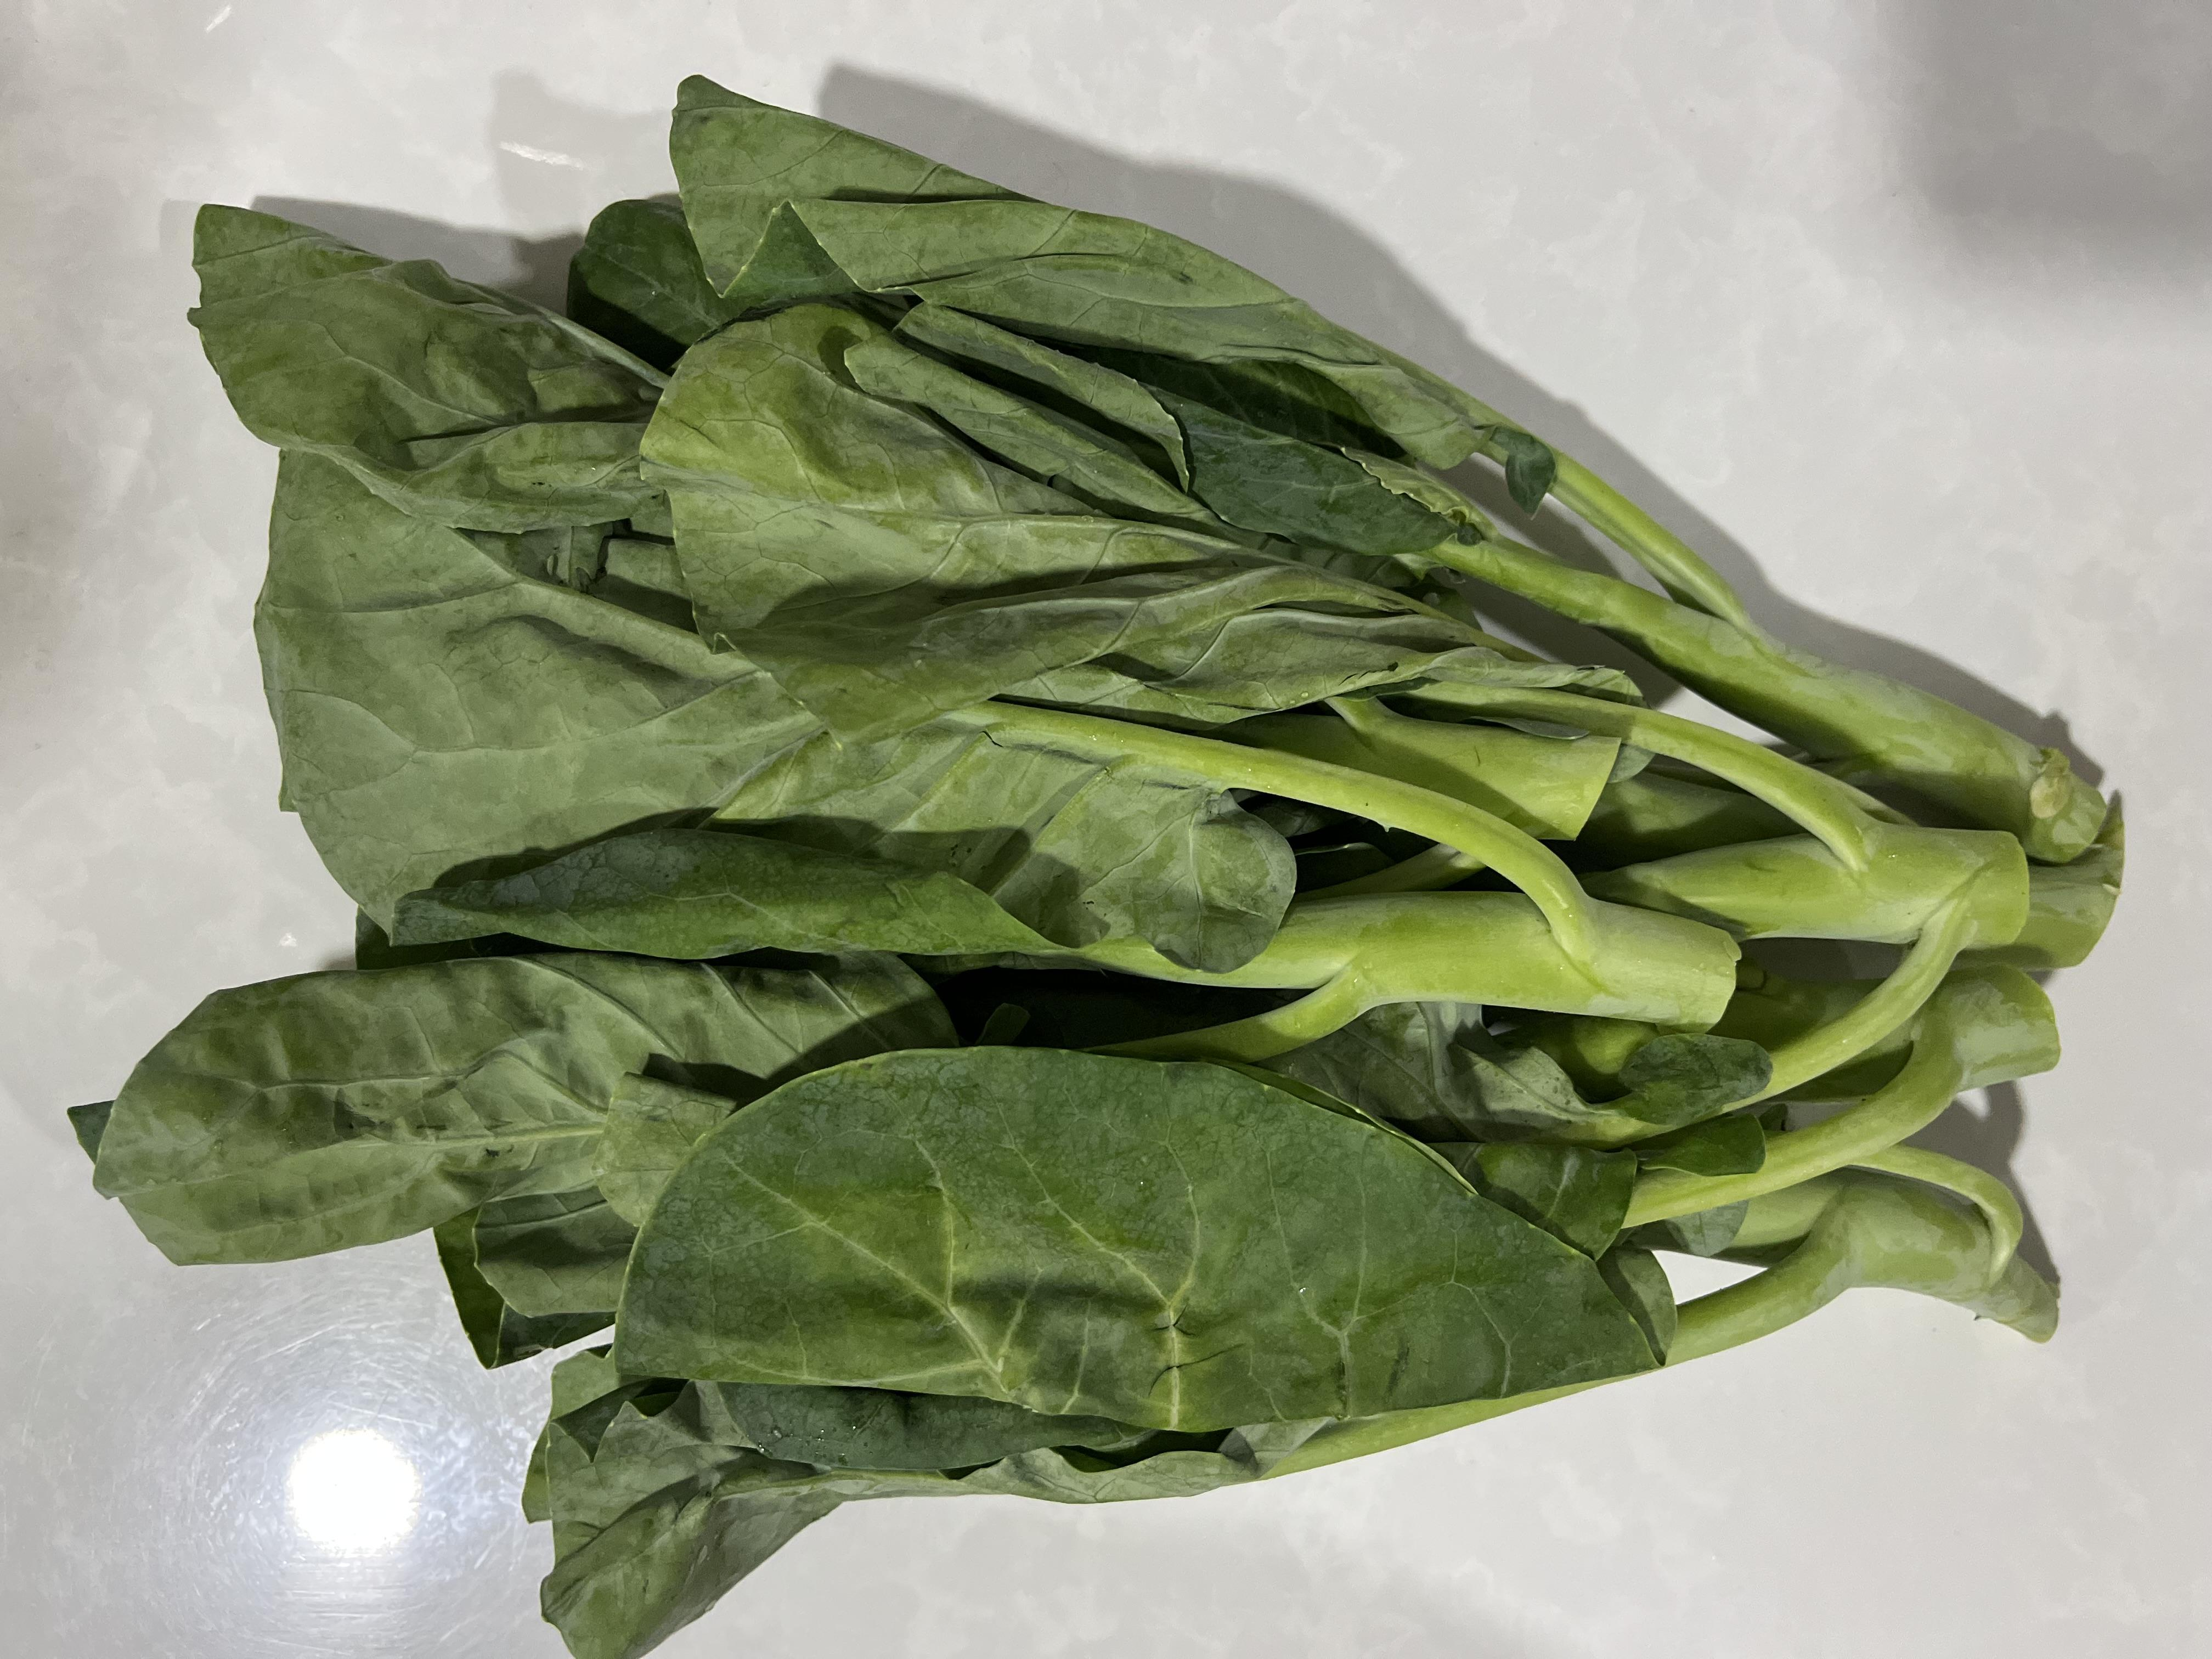Healthy-Pechay: (219, 105, 1952, 1591)
